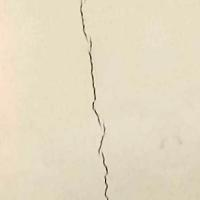crack: (66, 0, 125, 199)
